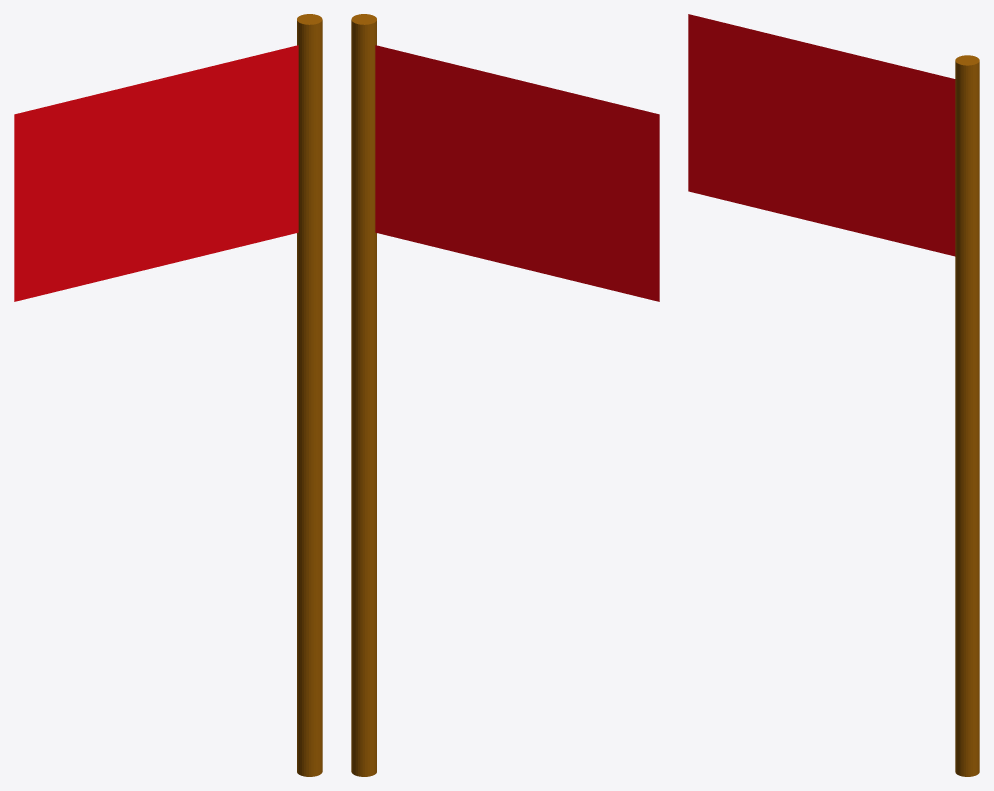
Rendered from flag.glb.
The picture shows the model from 3 angles, left to right: view 1: azimuth 30°, elevation 25°; view 2: azimuth 150°, elevation 25°; view 3: azimuth 330°, elevation 25°; orthographic projection. The views are drawn at different scales.
Parts seen in each view (by area): view 1: Plane, Cylinder, Plane.001; view 2: Plane, Plane.001, Cylinder; view 3: Plane, Plane.001, Cylinder.
Part boxes in pixels (x1=…): Plane: x1=14, y1=45, x2=298, y2=301; Cylinder: x1=297, y1=14, x2=322, y2=776; Plane.001: x1=29, y1=45, x2=298, y2=276; Plane: x1=375, y1=45, x2=659, y2=301; Plane.001: x1=426, y1=61, x2=659, y2=301; Cylinder: x1=351, y1=14, x2=376, y2=776; Plane: x1=688, y1=14, x2=955, y2=256; Plane.001: x1=729, y1=28, x2=955, y2=255; Cylinder: x1=955, y1=55, x2=979, y2=776.
Size of the model in its own units: 1.37 by 3.21 by 0.0995.
